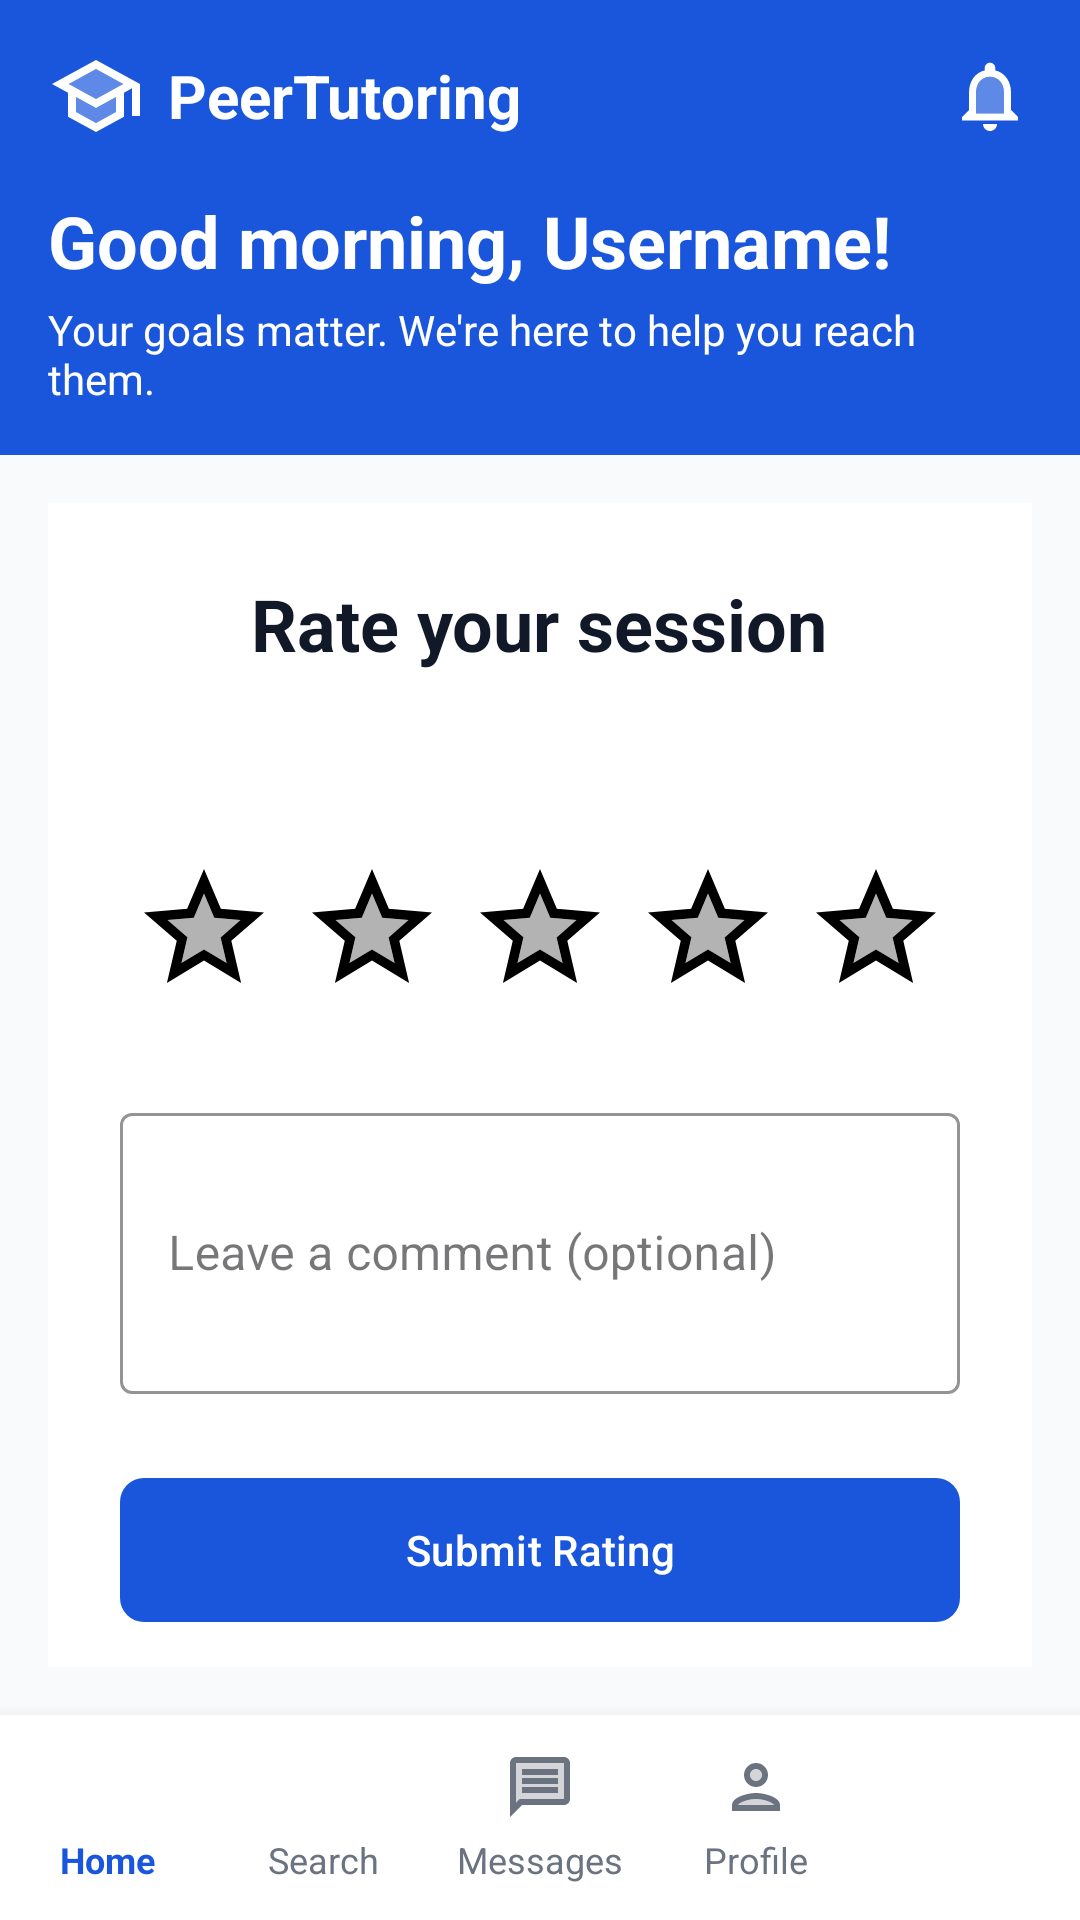

Locate icon controls on the screen. Image size 1080 x 1920, boxes as (x1, y1, x2, y2).
1 star: (144, 869, 264, 983)
notifications: (962, 62, 1018, 131)
person: (732, 1763, 780, 1811)
school hat: (52, 60, 140, 132)
